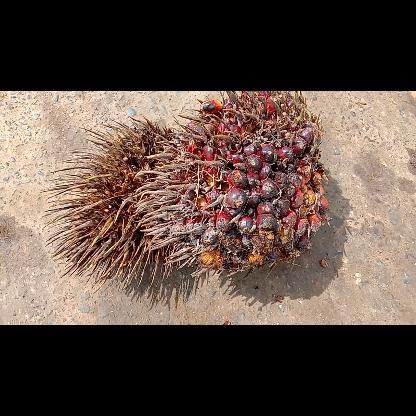Janjang kosong: (40, 115, 184, 289)
TBS masak: (133, 91, 331, 277)
